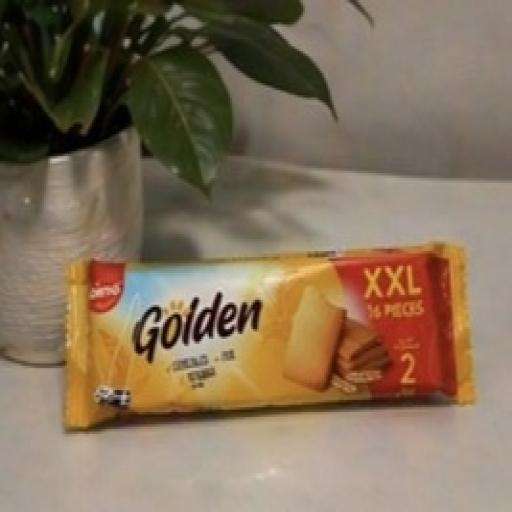golden: (51, 175, 495, 473)
